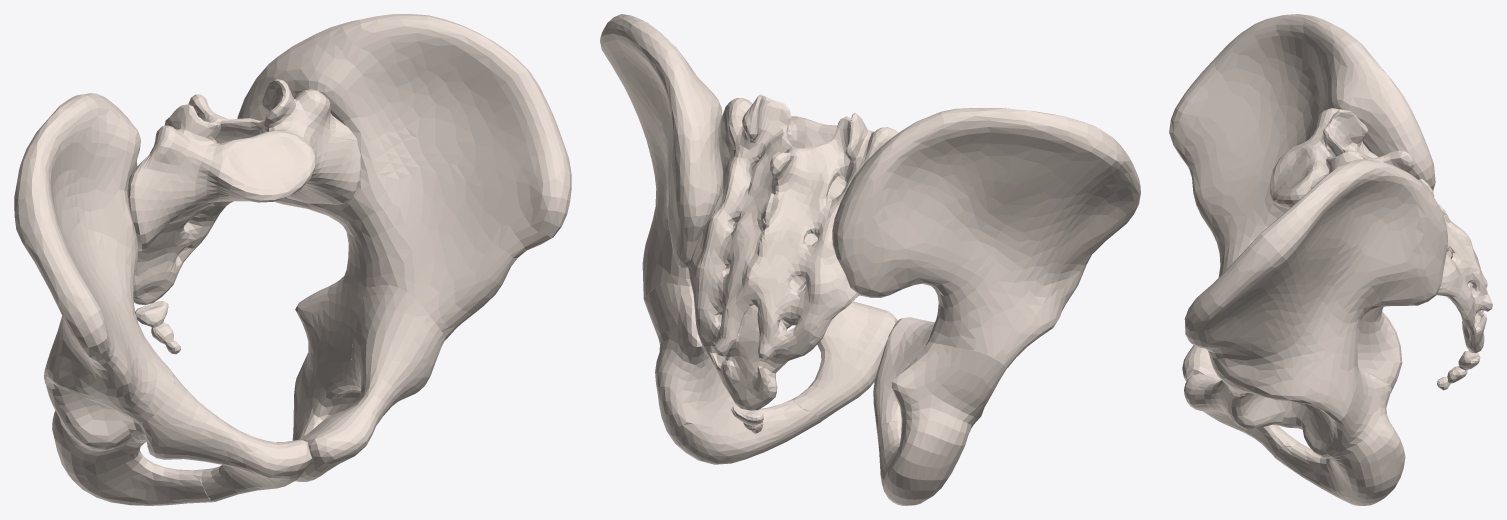
Rendered from VH_M_Pelvis_0.4.glb.
3 renders of one model, left to right at view 1: azimuth 30°, elevation 25°; view 2: azimuth 150°, elevation 25°; view 3: azimuth 270°, elevation 25°, orthographic. The views are drawn at different scales.
Visible parts, largest first — view 1: VH_M_ilium_compact_bone_L, VH_M_ilium_compact_bone_R, VH_M_sacrum, VH_M_pubis_compact_bone_L, VH_M_ischium_compact_bone_R, VH_M_pubis_compact_bone_R, VH_M_ischium_compact_bone_L, VH_M_coccyx; view 2: VH_M_ilium_compact_bone_R, VH_M_sacrum, VH_M_ilium_compact_bone_L, VH_M_ischium_compact_bone_L, VH_M_ischium_compact_bone_R, VH_M_pubis_compact_bone_L, VH_M_pubis_compact_bone_R; view 3: VH_M_ilium_compact_bone_L, VH_M_ilium_compact_bone_R, VH_M_ischium_compact_bone_L, VH_M_sacrum, VH_M_pubis_compact_bone_L, VH_M_ischium_compact_bone_R, VH_M_pubis_compact_bone_R, VH_M_coccyx.
Boxes of the visible parts, left/top/right/bottom form: VH_M_ilium_compact_bone_L: left=237, top=14, right=571, bottom=340; VH_M_ilium_compact_bone_R: left=14, top=93, right=174, bottom=422; VH_M_sacrum: left=127, top=79, right=361, bottom=305; VH_M_pubis_compact_bone_L: left=295, top=285, right=445, bottom=481; VH_M_ischium_compact_bone_R: left=45, top=384, right=214, bottom=505; VH_M_pubis_compact_bone_R: left=137, top=369, right=312, bottom=501; VH_M_ischium_compact_bone_L: left=292, top=274, right=365, bottom=481; VH_M_coccyx: left=135, top=301, right=180, bottom=354; VH_M_ilium_compact_bone_R: left=832, top=108, right=1140, bottom=367; VH_M_sacrum: left=688, top=94, right=897, bottom=410; VH_M_ilium_compact_bone_L: left=600, top=14, right=723, bottom=299; VH_M_ischium_compact_bone_L: left=644, top=268, right=821, bottom=464; VH_M_ischium_compact_bone_R: left=877, top=342, right=1006, bottom=505; VH_M_pubis_compact_bone_L: left=792, top=285, right=897, bottom=421; VH_M_pubis_compact_bone_R: left=873, top=317, right=934, bottom=434; VH_M_ilium_compact_bone_L: left=1184, top=159, right=1447, bottom=421; VH_M_ilium_compact_bone_R: left=1169, top=14, right=1435, bottom=264; VH_M_ischium_compact_bone_L: left=1275, top=368, right=1405, bottom=505; VH_M_sacrum: left=1270, top=108, right=1492, bottom=353; VH_M_pubis_compact_bone_L: left=1184, top=373, right=1298, bottom=457; VH_M_ischium_compact_bone_R: left=1288, top=307, right=1402, bottom=428; VH_M_pubis_compact_bone_R: left=1182, top=261, right=1290, bottom=427; VH_M_coccyx: left=1437, top=350, right=1480, bottom=390.
Size of the model in its own units: 0.2835 by 0.2186 by 0.173.
